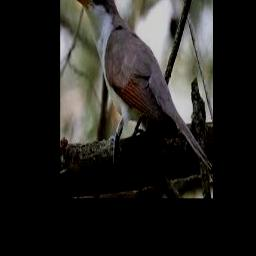Cuckoo: (70, 0, 212, 171)
